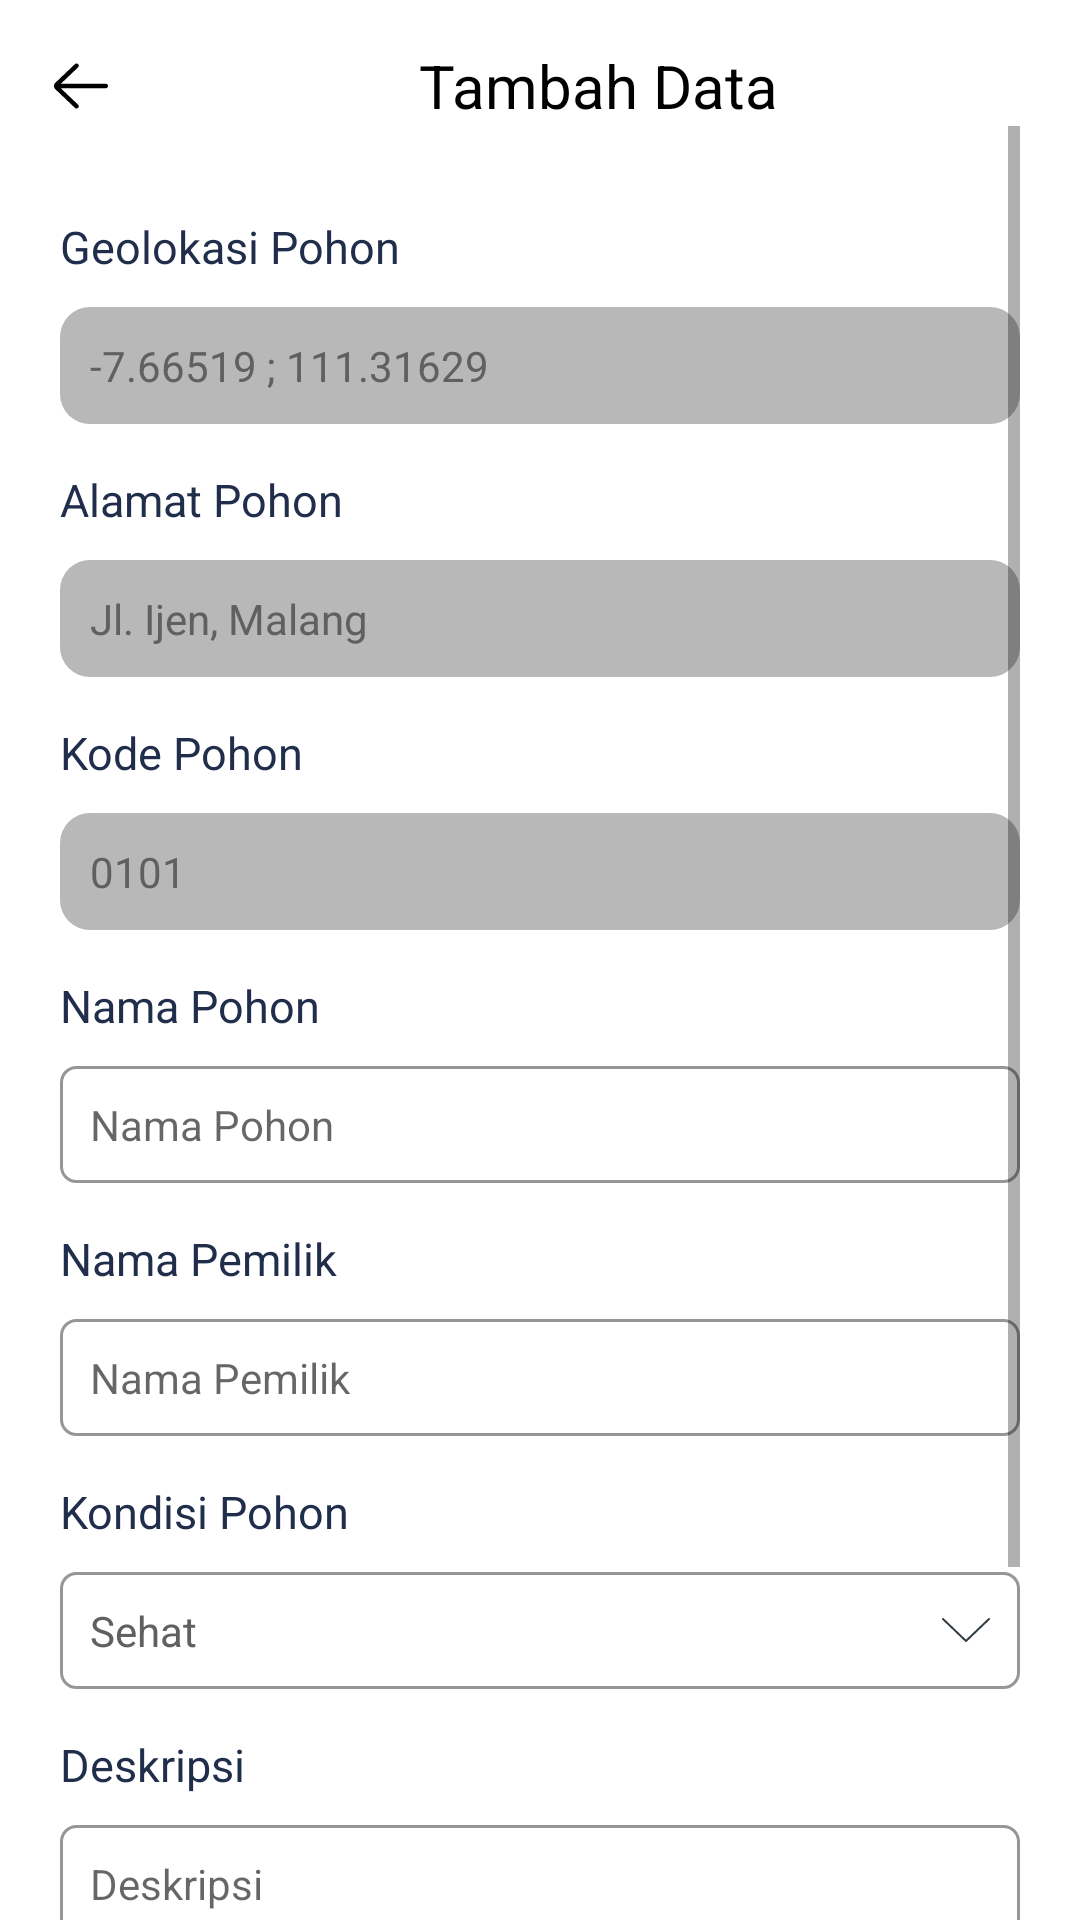

Where to tap for icons on this 1080*1920 app screen, as (x=x, y=y):
left arrow: (x=81, y=86)
